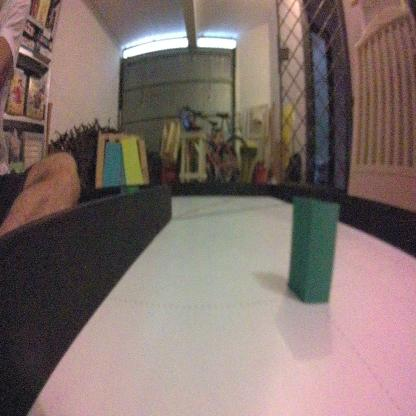green: (286, 185, 341, 313)
